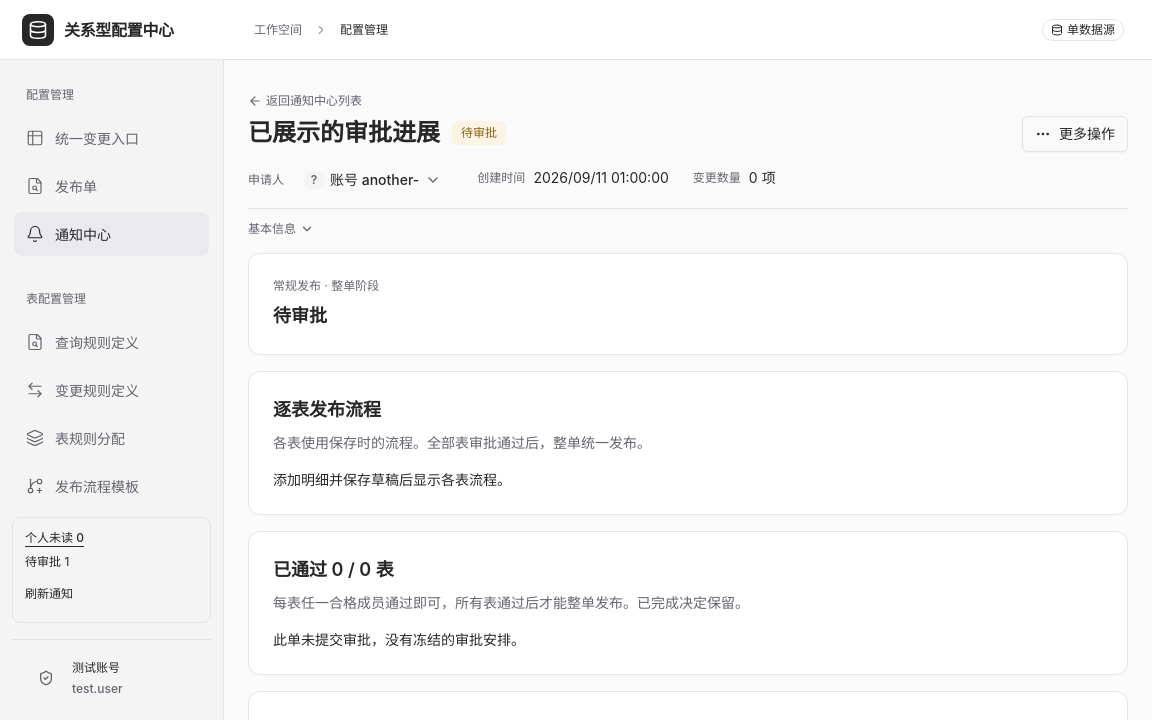
Test: 从详情完成审批动作后立即读取真实待审批数，不等待下一次轮询
This screenshot has width=1152, height=720.
Click the button "更多操作" at (1075, 134), box [1022,116,1128,152]
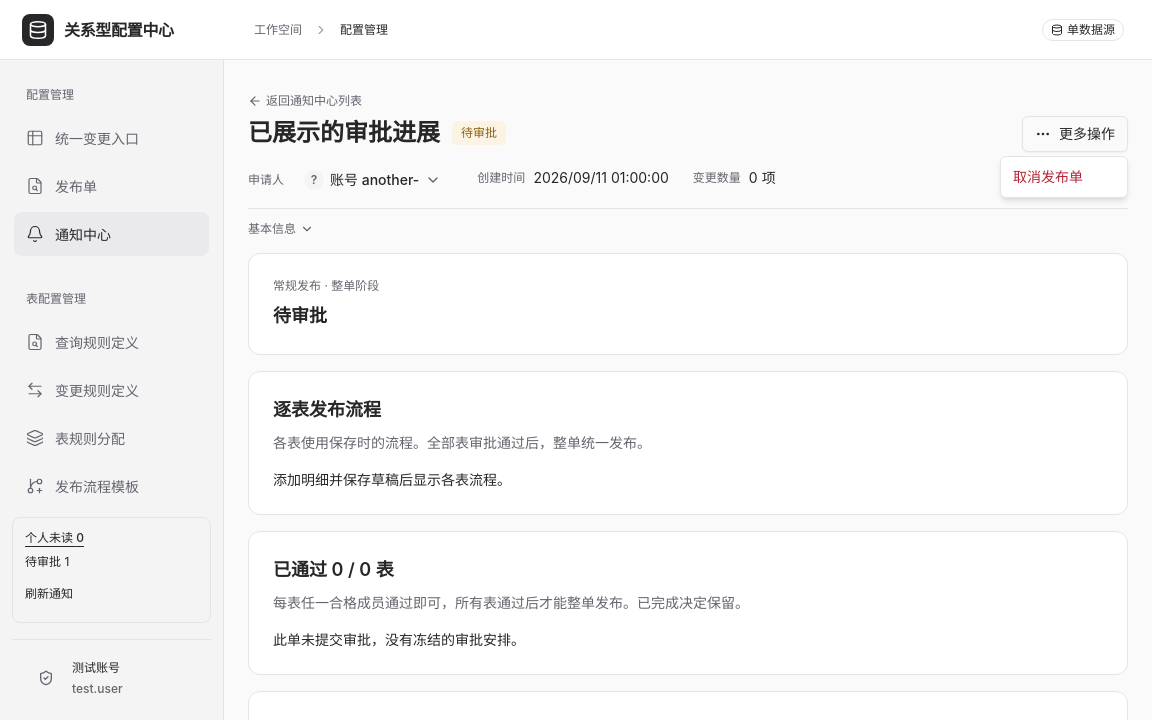
Expected: the text named "个人待审批数" reads "待审批 1", [25,554,69,569]
Click the menu item "取消发布单" at (1048, 176), box [1013,168,1083,185]
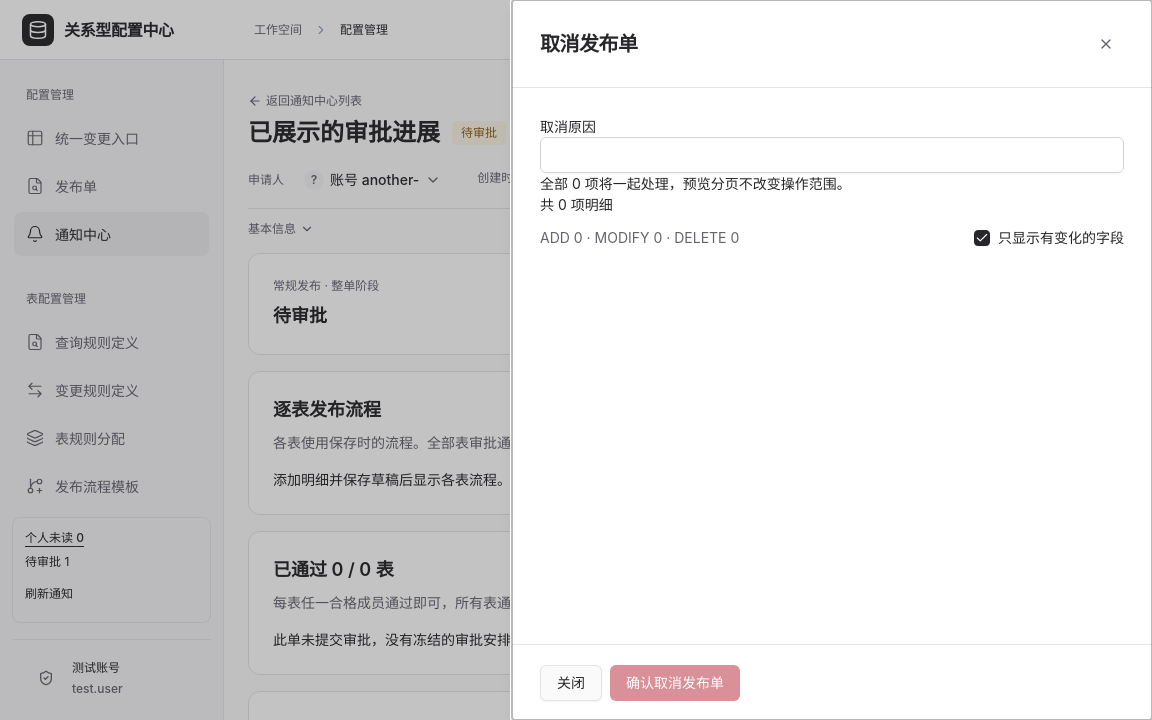
Type "取消当前申请" into the field labelled "取消原因" at (832, 155), box [540,137,1124,173]
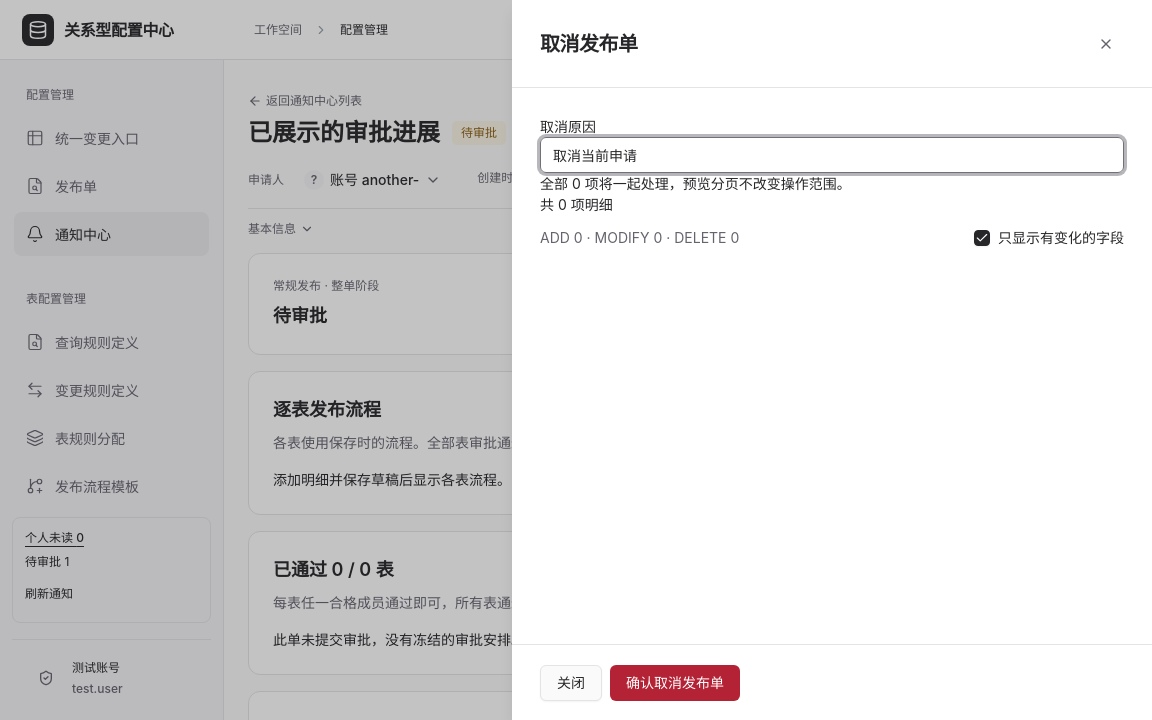
Click the button "确认取消发布单" at (675, 682), box [610,664,740,700]
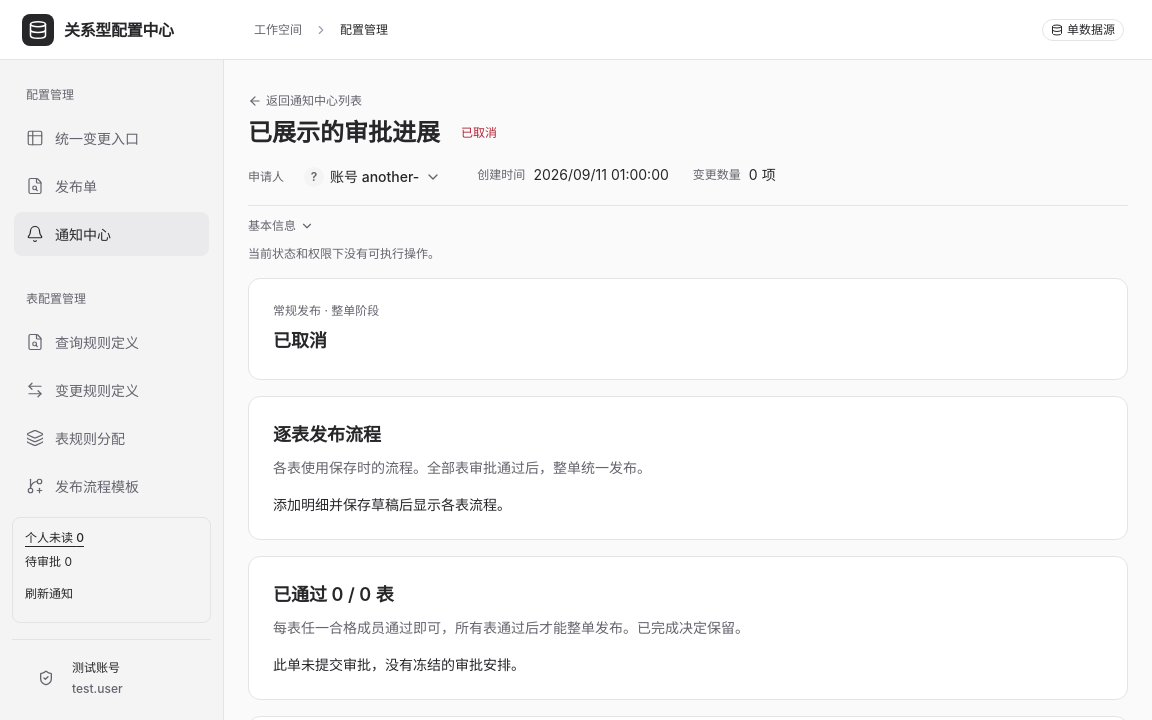
Expected: the text named "个人待审批数" reads "待审批 0", [25,554,72,569]
